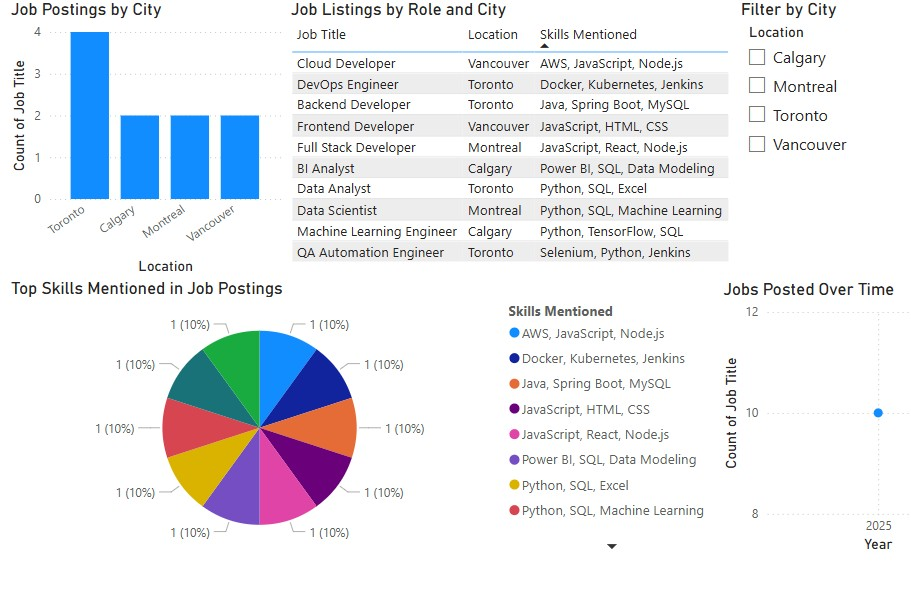

This screenshot's page, from the dashboard's own definition file:
{"tool":"powerbi","page":{"name":"Page 1","canvas":[1280,720],"ordinal":0},"visuals":[{"type":"clusteredColumnChart","title":"Job Postings by City","fields":{"Category":["Canada_Tech_Jobs.Location"],"Y":["CountNonNull(Canada_Tech_Jobs.Job Title)"]},"box":[10,0,280,280],"z":0},{"type":"pieChart","title":"Top Skills Mentioned in Job Postings","fields":{"Y":["CountNonNull(Canada_Tech_Jobs.Job Title)"],"Category":["Canada_Tech_Jobs.Skills Mentioned"]},"box":[10,278.8,712.5,281.2],"z":1000},{"type":"lineChart","title":"Jobs Posted Over Time","fields":{"Category":["Canada_Tech_Jobs.Posted Date.Variation.Date Hierarchy.Year","Canada_Tech_Jobs.Posted Date.Variation.Date Hierarchy.Quarter","Canada_Tech_Jobs.Posted Date.Variation.Date Hierarchy.Month","Canada_Tech_Jobs.Posted Date.Variation.Date Hierarchy.Day"],"Y":["CountNonNull(Canada_Tech_Jobs.Job Title)"]},"box":[722.5,280,275,278.8],"z":2000},{"type":"tableEx","title":"Job Listings by Role and City","fields":{"Values":["Canada_Tech_Jobs.Job Title","Canada_Tech_Jobs.Location","Canada_Tech_Jobs.Skills Mentioned"]},"box":[290,0,450,280],"z":3000},{"type":"slicer","title":"Filter by City","fields":{"Values":["Canada_Tech_Jobs.Location"]},"box":[740,0,258.8,280],"z":4000},{"type":"textbox","box":[20,591.2,918.8,43.8],"z":5000}]}

Visuals, with their boxes on the page's 1280x720 design canvas (x1, y1, x2, y2). These are canvas units, not pixel positions in the 911x592 screenshot, which may show the page scaled, cropped or inside an application window:
"Job Postings by City" clusteredColumnChart: BBox(10, 0, 290, 280)
"Top Skills Mentioned in Job Postings" pieChart: BBox(10, 279, 722, 560)
"Jobs Posted Over Time" lineChart: BBox(722, 280, 998, 559)
"Job Listings by Role and City" tableEx: BBox(290, 0, 740, 280)
"Filter by City" slicer: BBox(740, 0, 999, 280)
textbox: BBox(20, 591, 939, 635)
